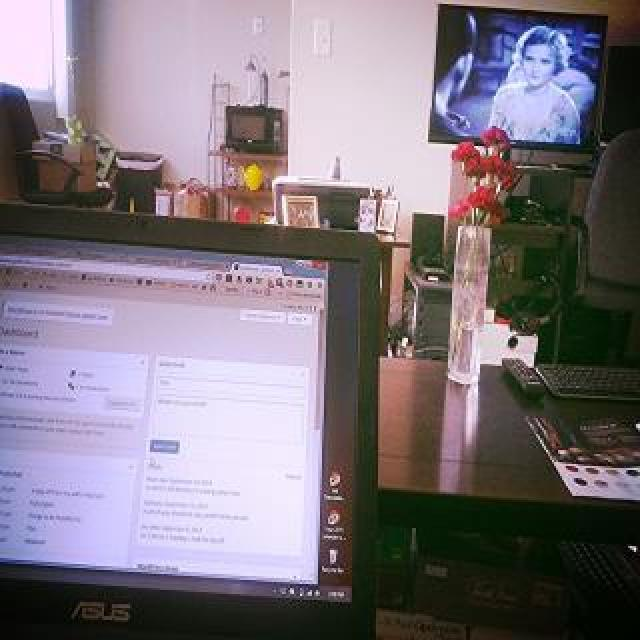laptop_computer: (0, 200, 412, 640)
remote: (498, 348, 550, 415)
